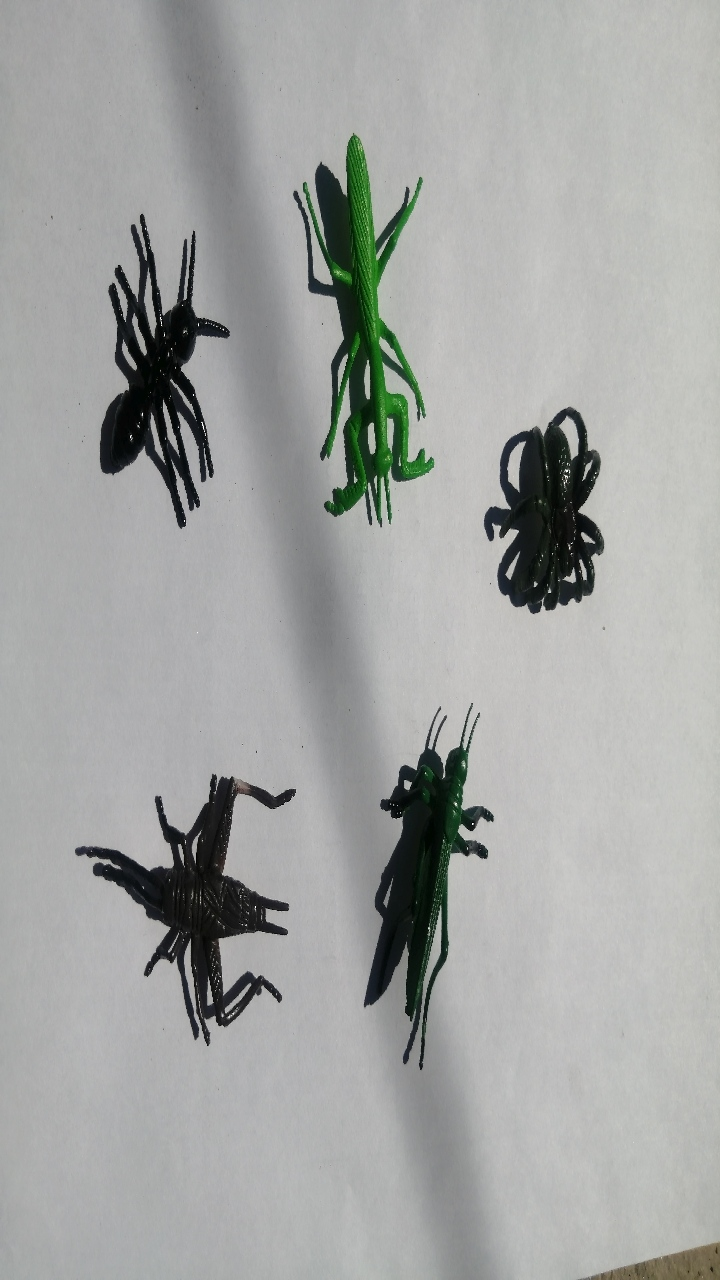intruso: (20, 715, 297, 1080), (341, 652, 531, 1086), (264, 99, 443, 545), (63, 154, 263, 543), (468, 354, 614, 645)
